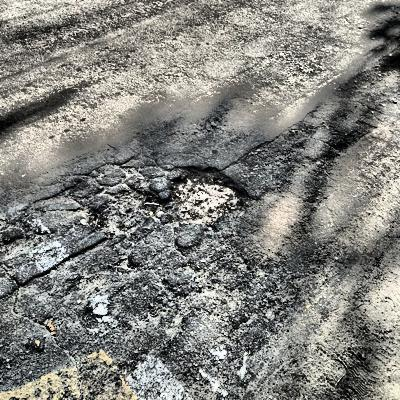pothole: (164, 162, 256, 227), (87, 187, 162, 234)
